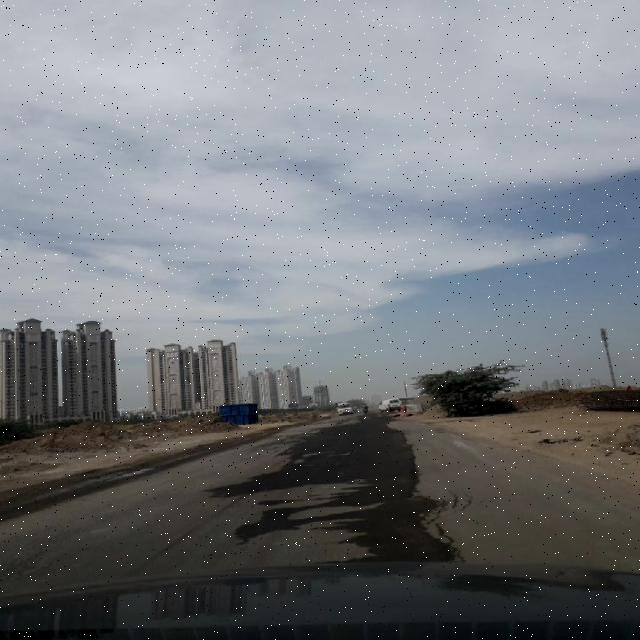D00: (394, 426, 458, 554)
